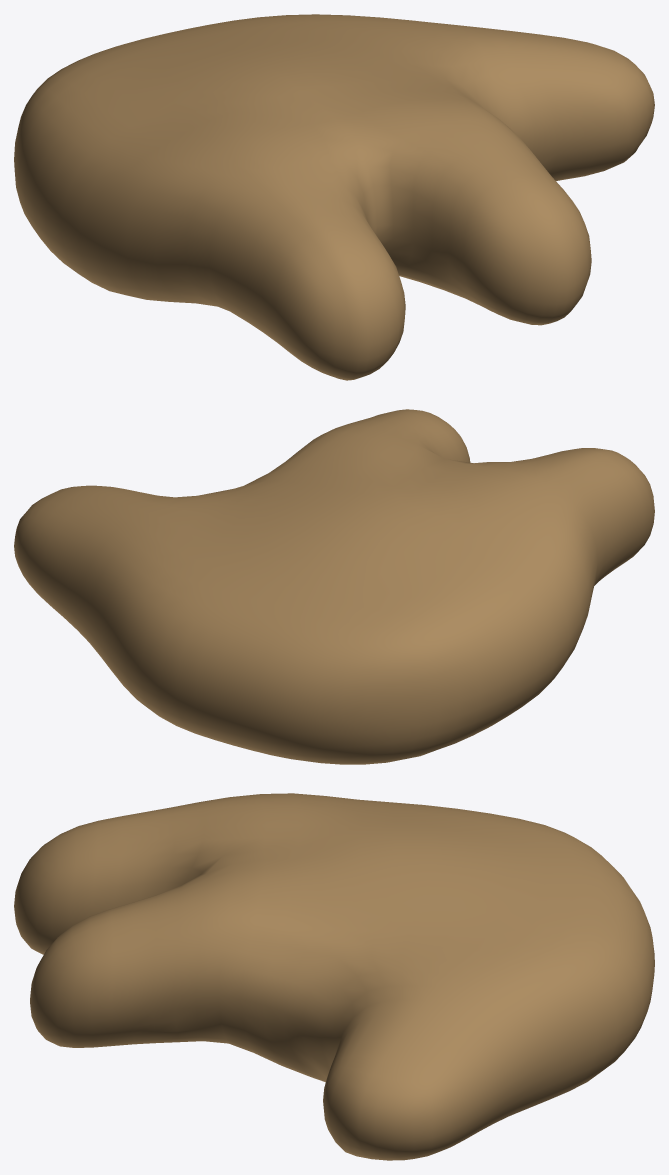
File: right-hand.fbx
The picture shows the model from 3 angles, top to bottom: view 1: azimuth 30°, elevation 25°; view 2: azimuth 150°, elevation 25°; view 3: azimuth 270°, elevation 25°; orthographic projection. The views are drawn at different scales.
Parts seen in each view (by area): view 1: Right Hand; view 2: Right Hand; view 3: Right Hand.
Part boxes in pixels (bbox=[...]): Right Hand: bbox=[14, 14, 654, 380]; Right Hand: bbox=[14, 409, 654, 764]; Right Hand: bbox=[14, 793, 654, 1160].
Size of the model in its own units: 15.99 by 5.25 by 15.84.
